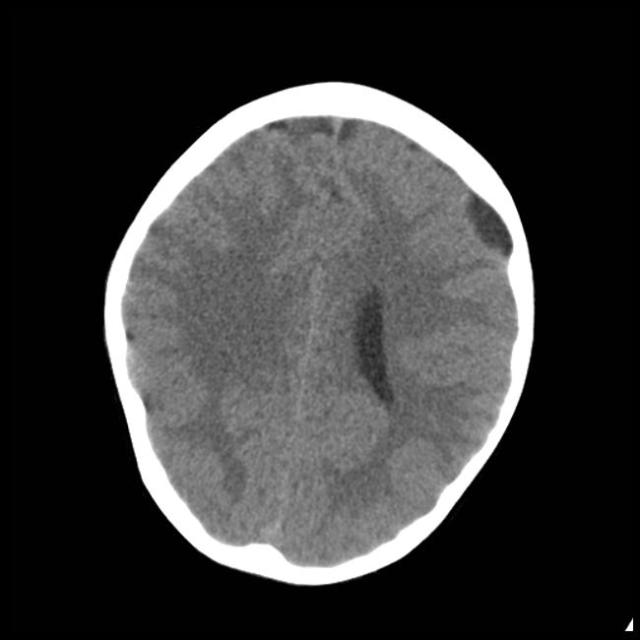lesion: (104, 89, 536, 582)
